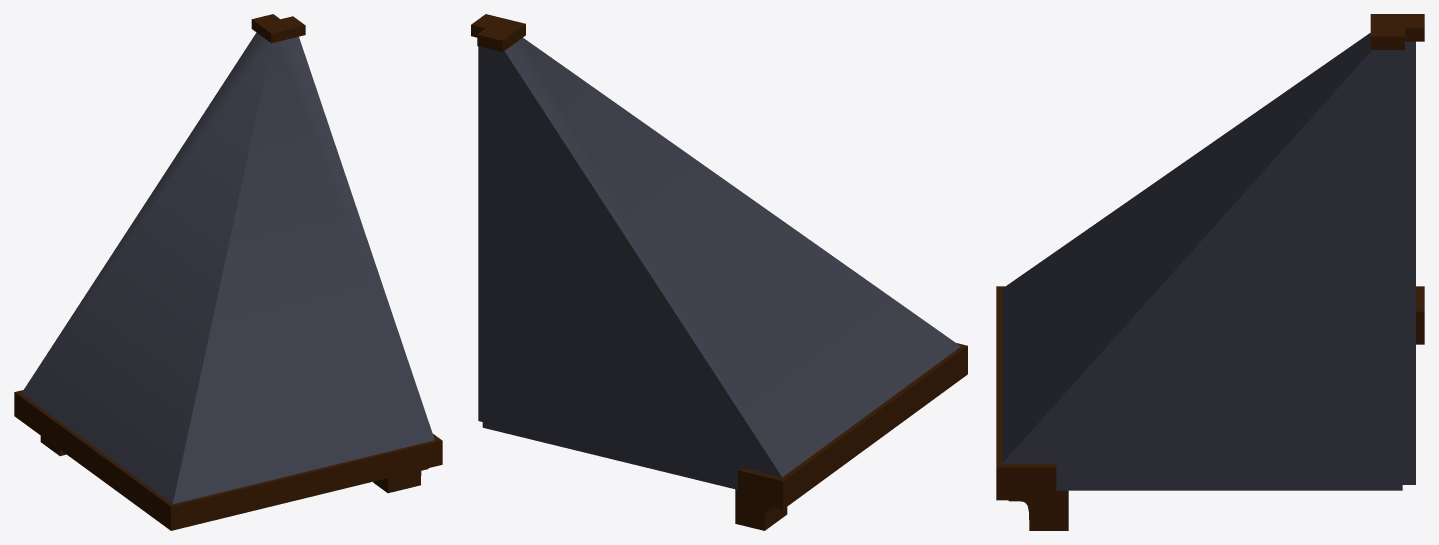
The model's file is MaisRich_toit_coin_ext.fbx.
3 renders of one model, left to right at view 1: azimuth 30°, elevation 25°; view 2: azimuth 150°, elevation 25°; view 3: azimuth 270°, elevation 25°, orthographic. The views are drawn at different scales.
Parts seen in each view (by area): view 1: polySurface117; view 2: polySurface117; view 3: polySurface117.
Part boxes in pixels (left/top/right/bottom): polySurface117: left=14, top=14, right=442, bottom=530; polySurface117: left=471, top=14, right=967, bottom=530; polySurface117: left=996, top=14, right=1424, bottom=530.
Bounding box in the file's own units: 41.78 × 53.87 × 41.78.
